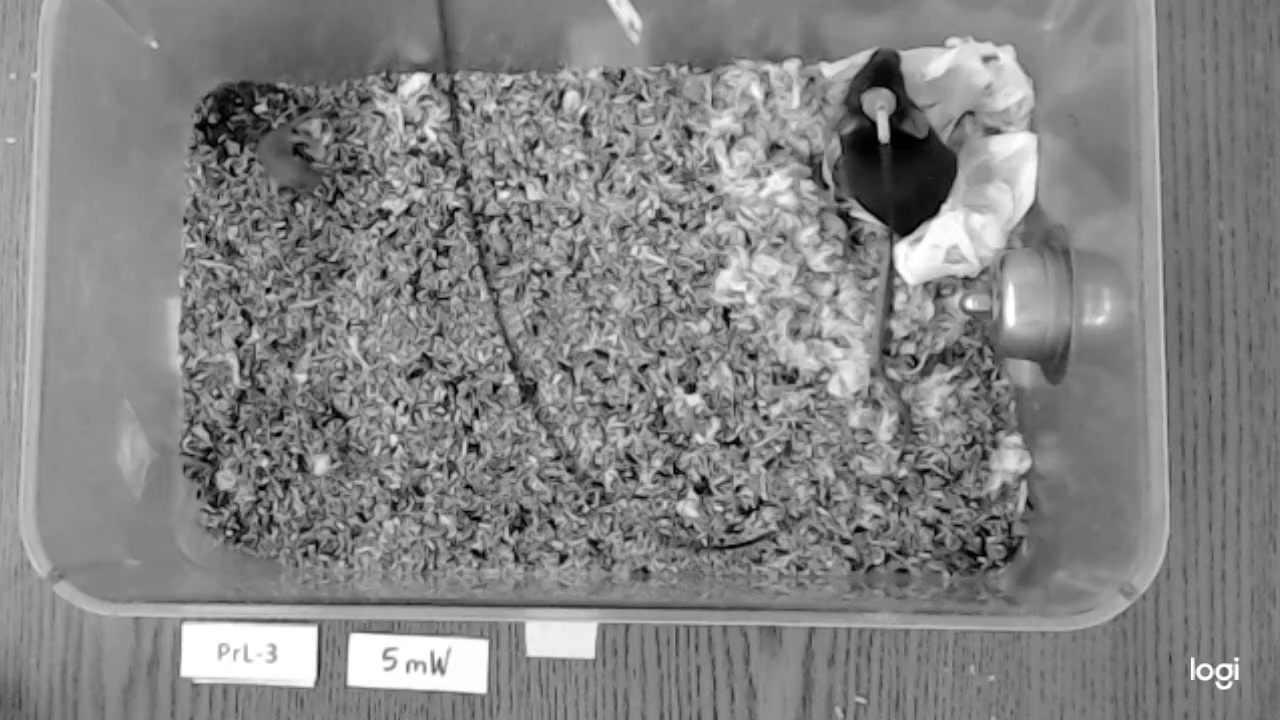child-mice: (254, 126, 326, 193)
